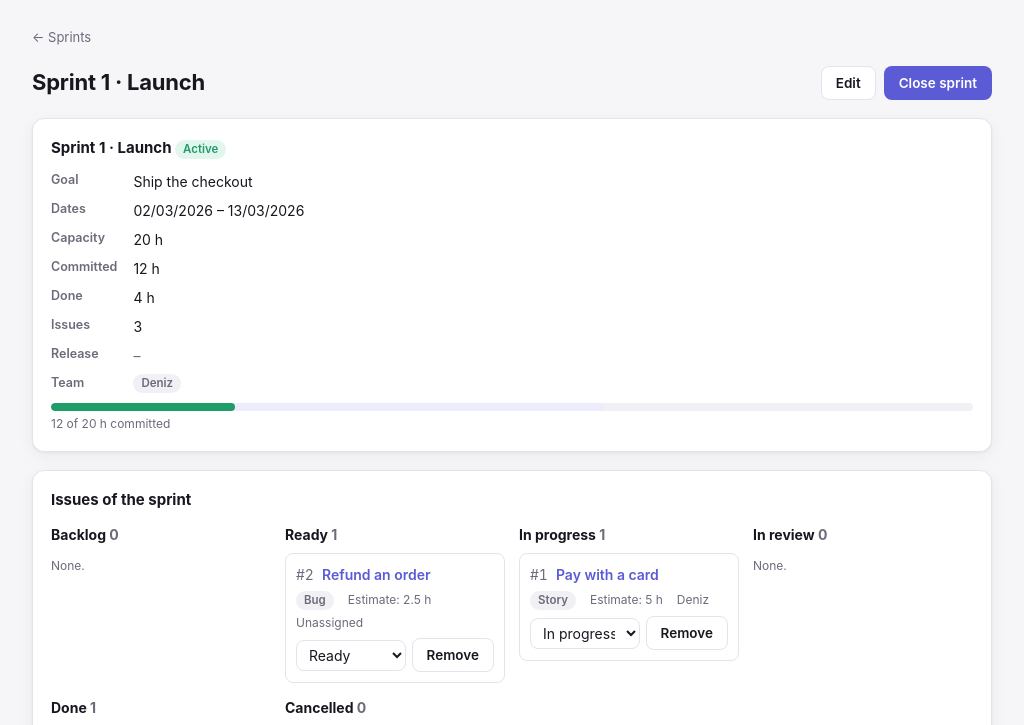
the sprint page: closing › keeps the panel and shows the refusal when the target is refused
Click the button "Close sprint".
click(938, 82)  # box [884,66,992,100]
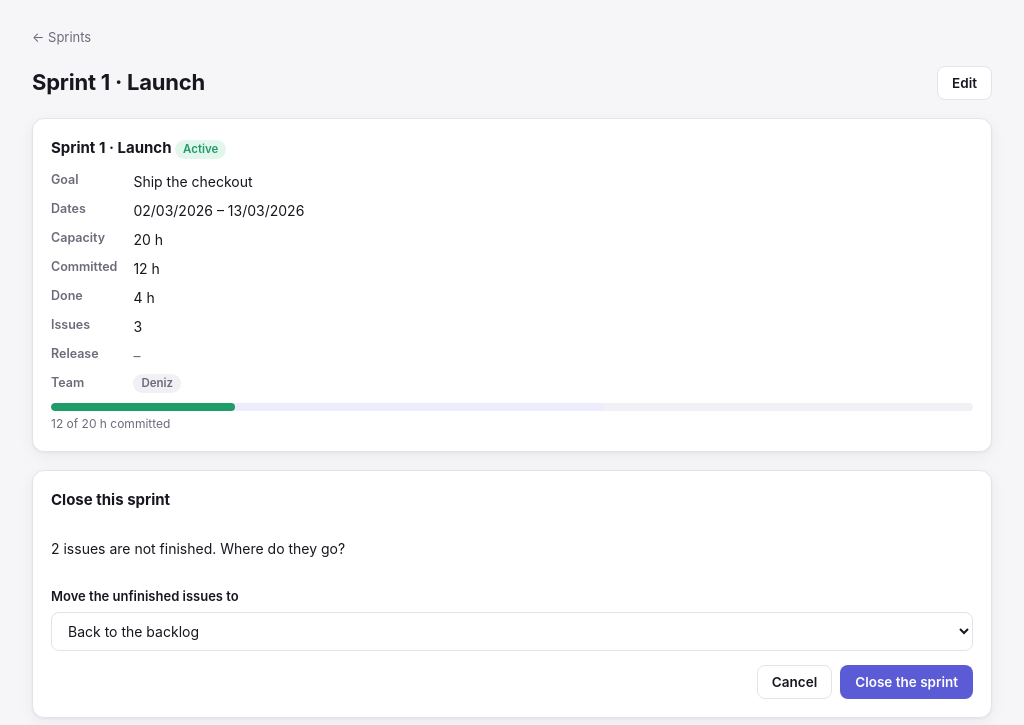
Click the button "Close the sprint".
click(907, 682)  # box [840,665,973,699]
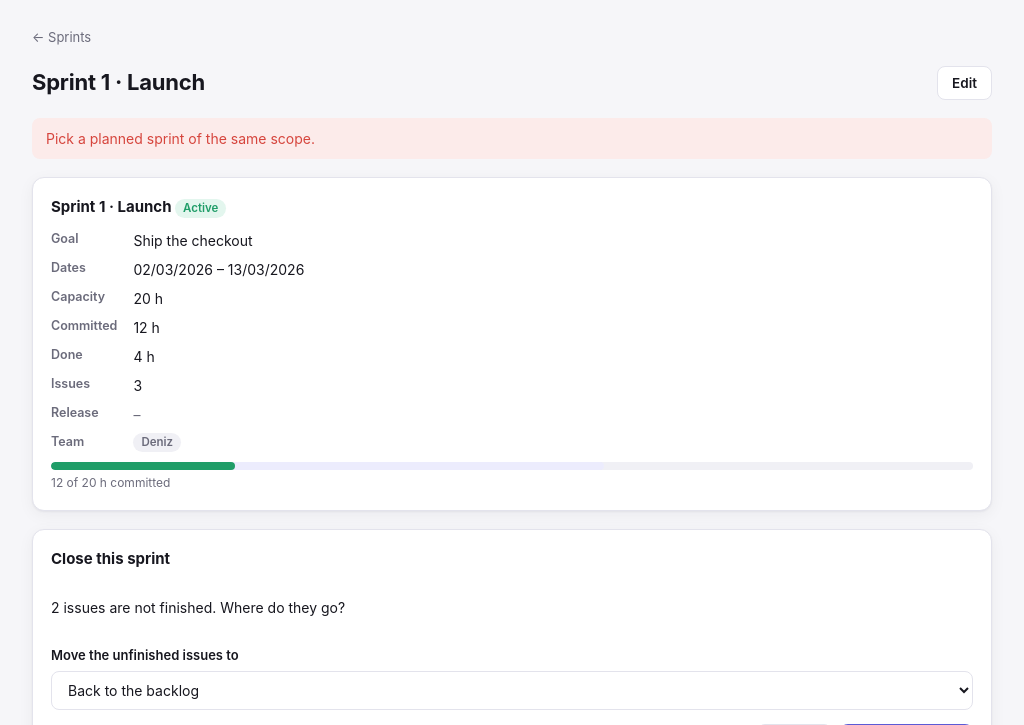
Result: the heading "Close this sprint" is shown at [51,548,170,571]
Result: the text "Pick a planned sprint of the same scope." is shown at [32,118,992,158]
